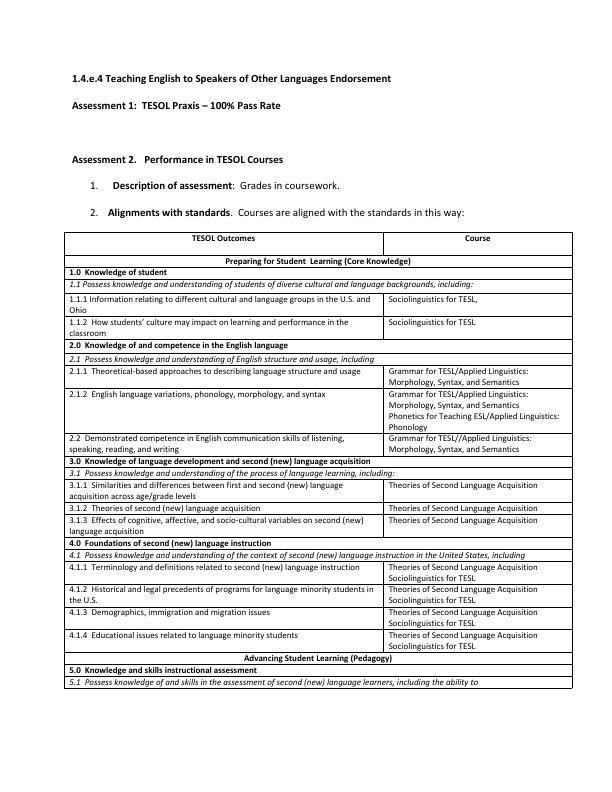table: (59, 229, 579, 696)
text: (86, 178, 470, 221), (59, 66, 395, 88), (67, 96, 287, 120), (68, 148, 288, 169)
